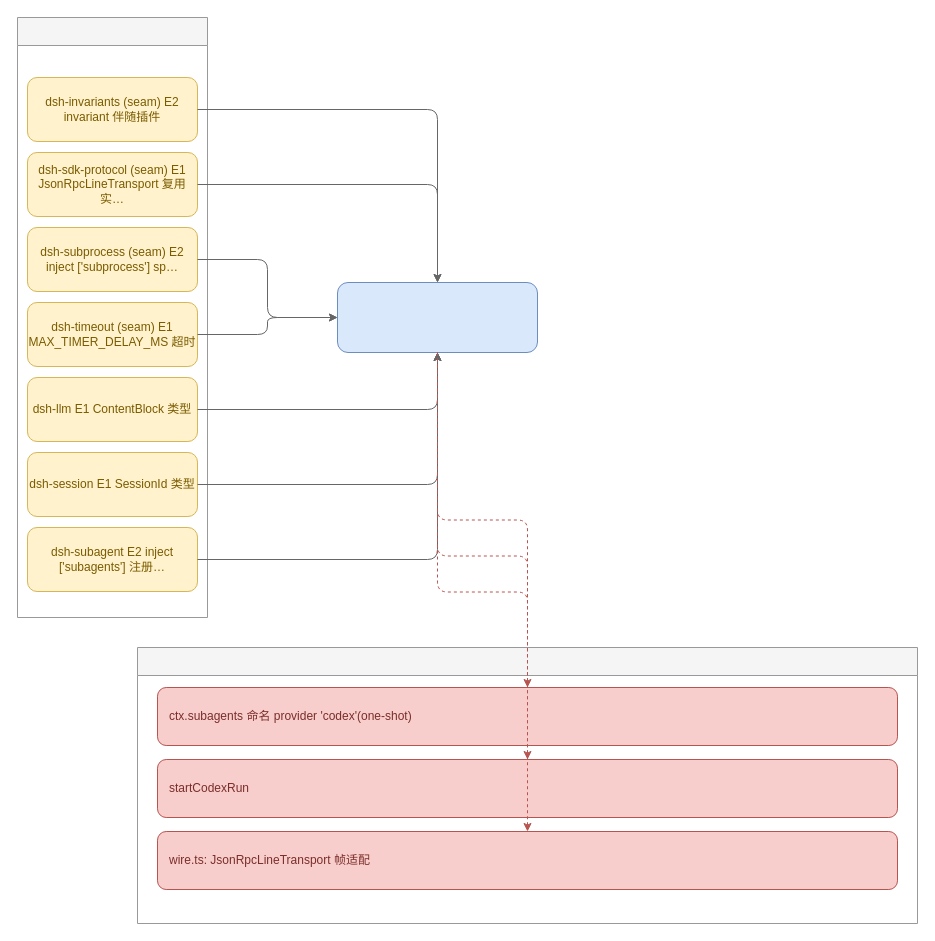
The diagram is 935 pixels wide and 941 high, and some of its shapes have lost their labels. Each missing label, with the box of its shape:
dsh-subagent-codex @deepseek-ai/dsh-subagent-codex: (336, 282, 538, 352)
上游依赖 upstream (E1/E2/E3): (16, 16, 208, 618)
提供服务 provides（关键项）: (136, 646, 918, 924)
